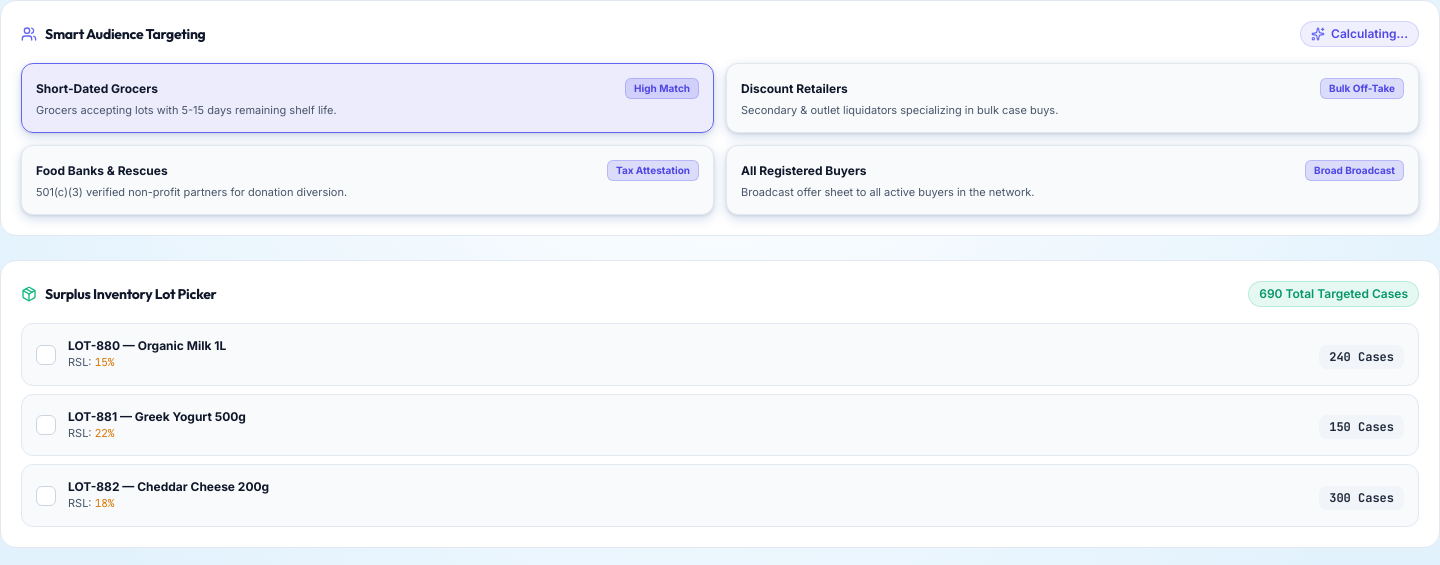
Test: Issue #79 / Slice 4: Smart Audience Targeting & Inventory Lot Selector › Slice 4 - Criterion 3: updates preview metrics dynamically when changing buyer segment
Switch buyer segment to All Registered Buyers
Click the text "All Registered Buyers": click(804, 171) [741,163,866,179]
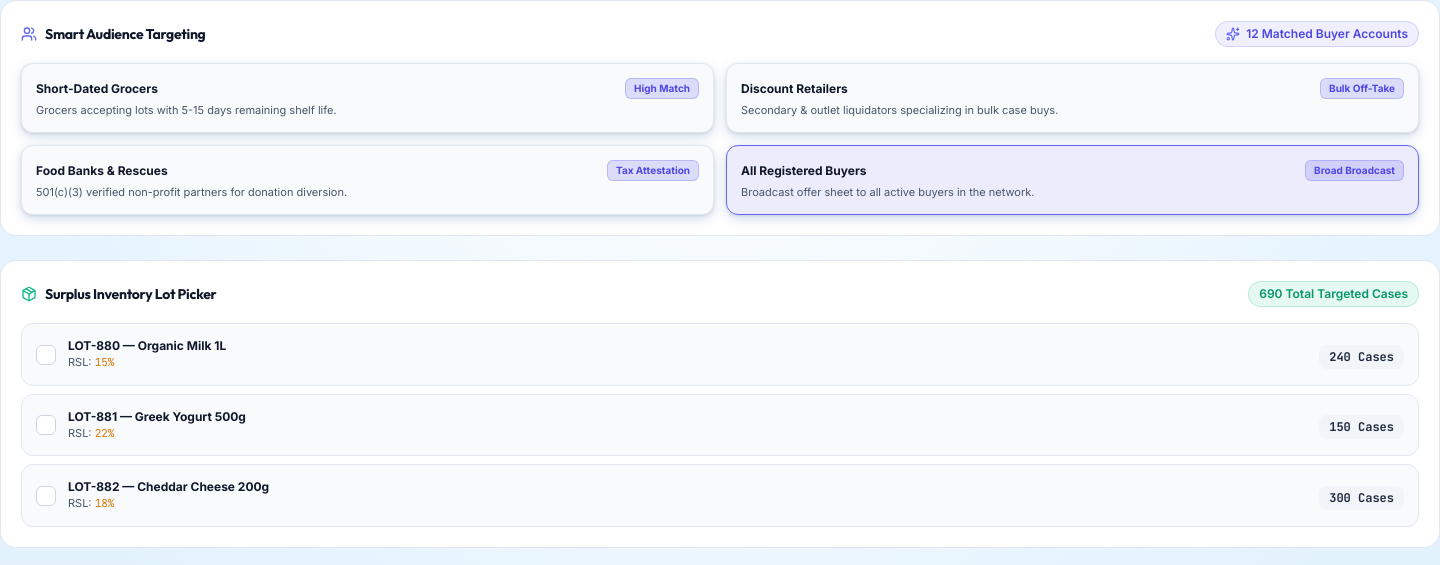
Check: the element with test id "recipient-count-badge" reads "12 Matched Buyer Accounts", box [1246,26,1408,41]
